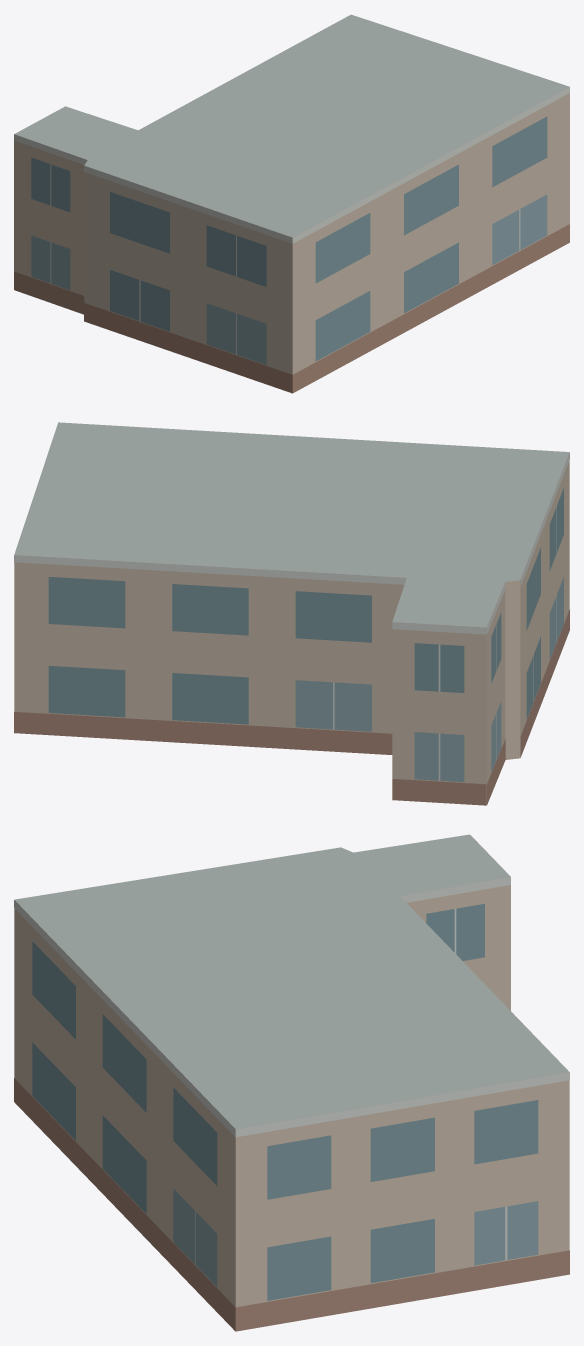
The model's file is survey-upis-32721265.glb.
3 renders of one model, top to bottom at view 1: azimuth 30°, elevation 25°; view 2: azimuth 150°, elevation 25°; view 3: azimuth 270°, elevation 25°, orthographic. The views are drawn at different scales.
Parts seen in each view (by area): view 1: survey-upis-32721265.tmp; view 2: survey-upis-32721265.tmp; view 3: survey-upis-32721265.tmp.
Boxes of the visible parts, x1,y1,x2,y2 form: survey-upis-32721265.tmp: (14, 14, 569, 393); survey-upis-32721265.tmp: (14, 422, 569, 805); survey-upis-32721265.tmp: (14, 834, 569, 1331).
Bounding box in the file's own units: 19.08 × 6.1 × 15.2.
